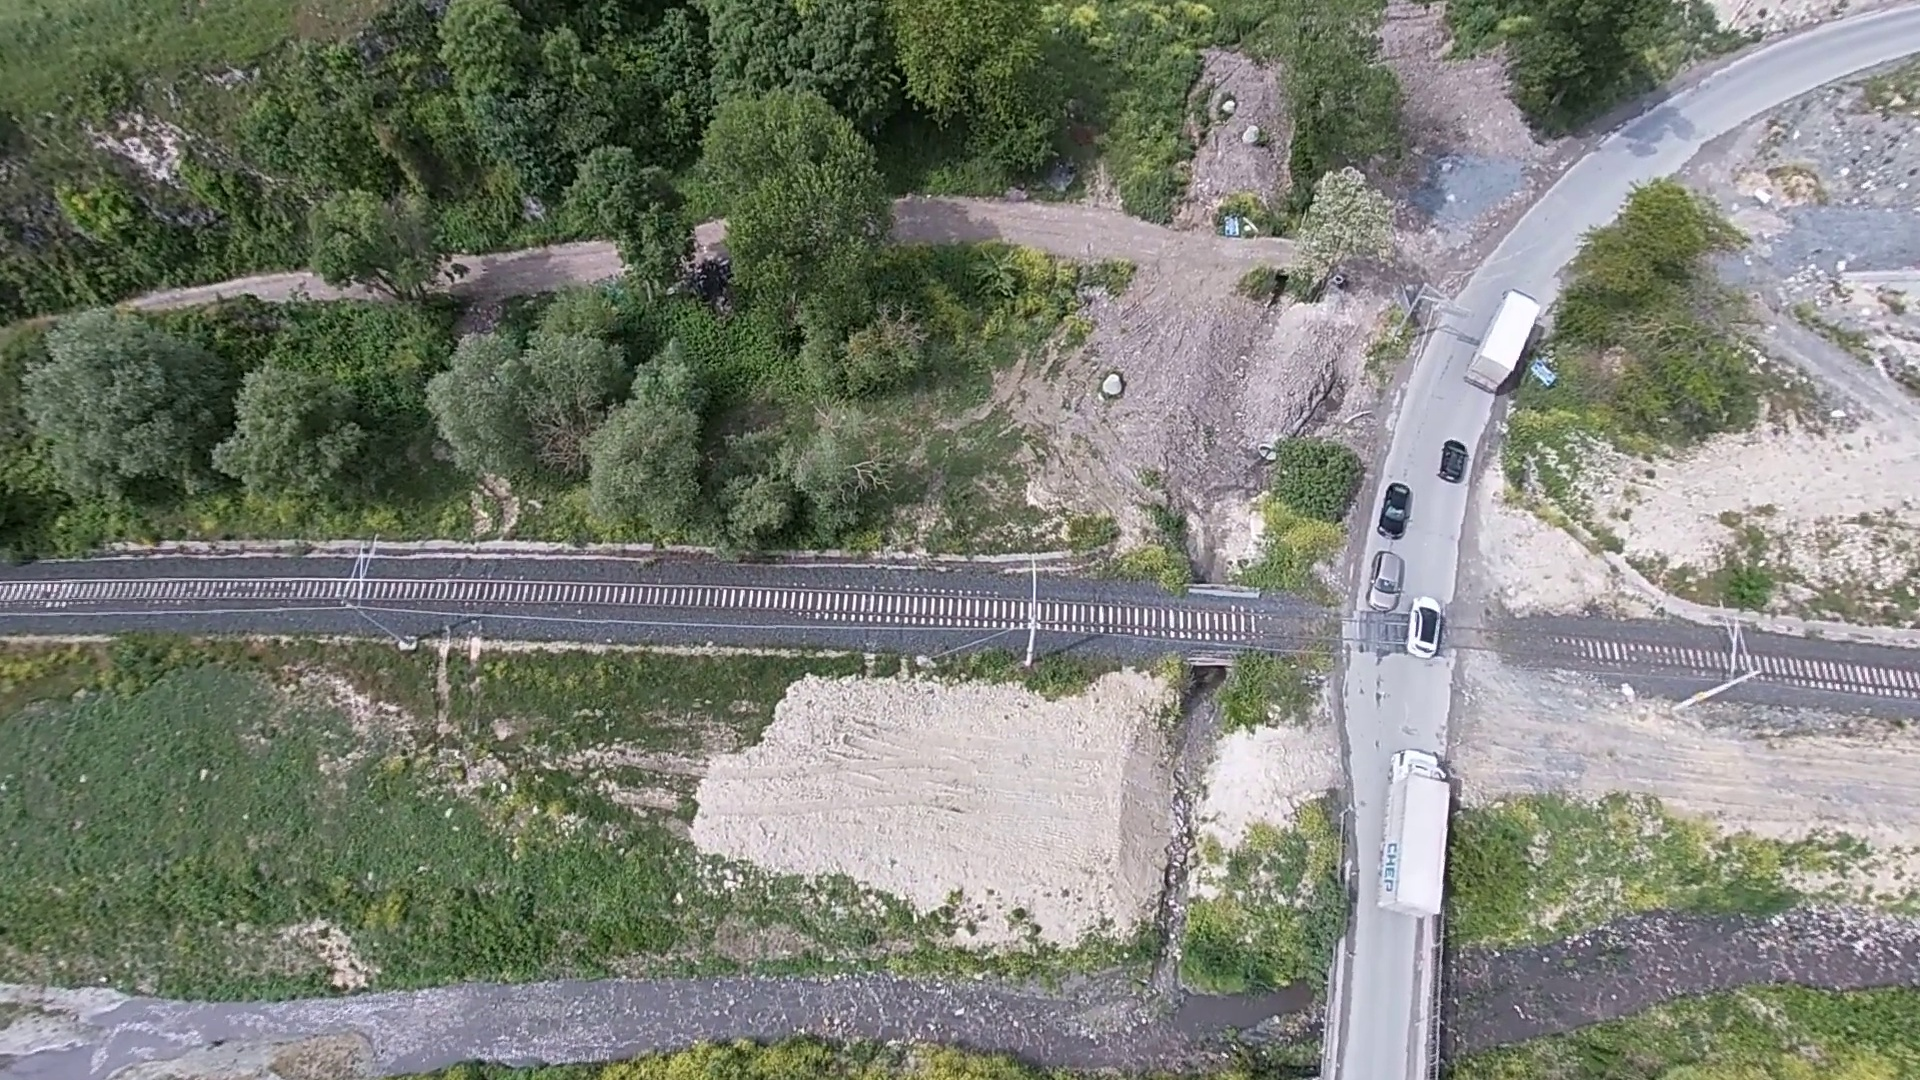araba: (1357, 553, 1408, 616), (1403, 596, 1447, 655), (1429, 433, 1480, 484), (1379, 477, 1414, 539)
kamyon: (1371, 735, 1466, 932), (1464, 284, 1538, 393)
